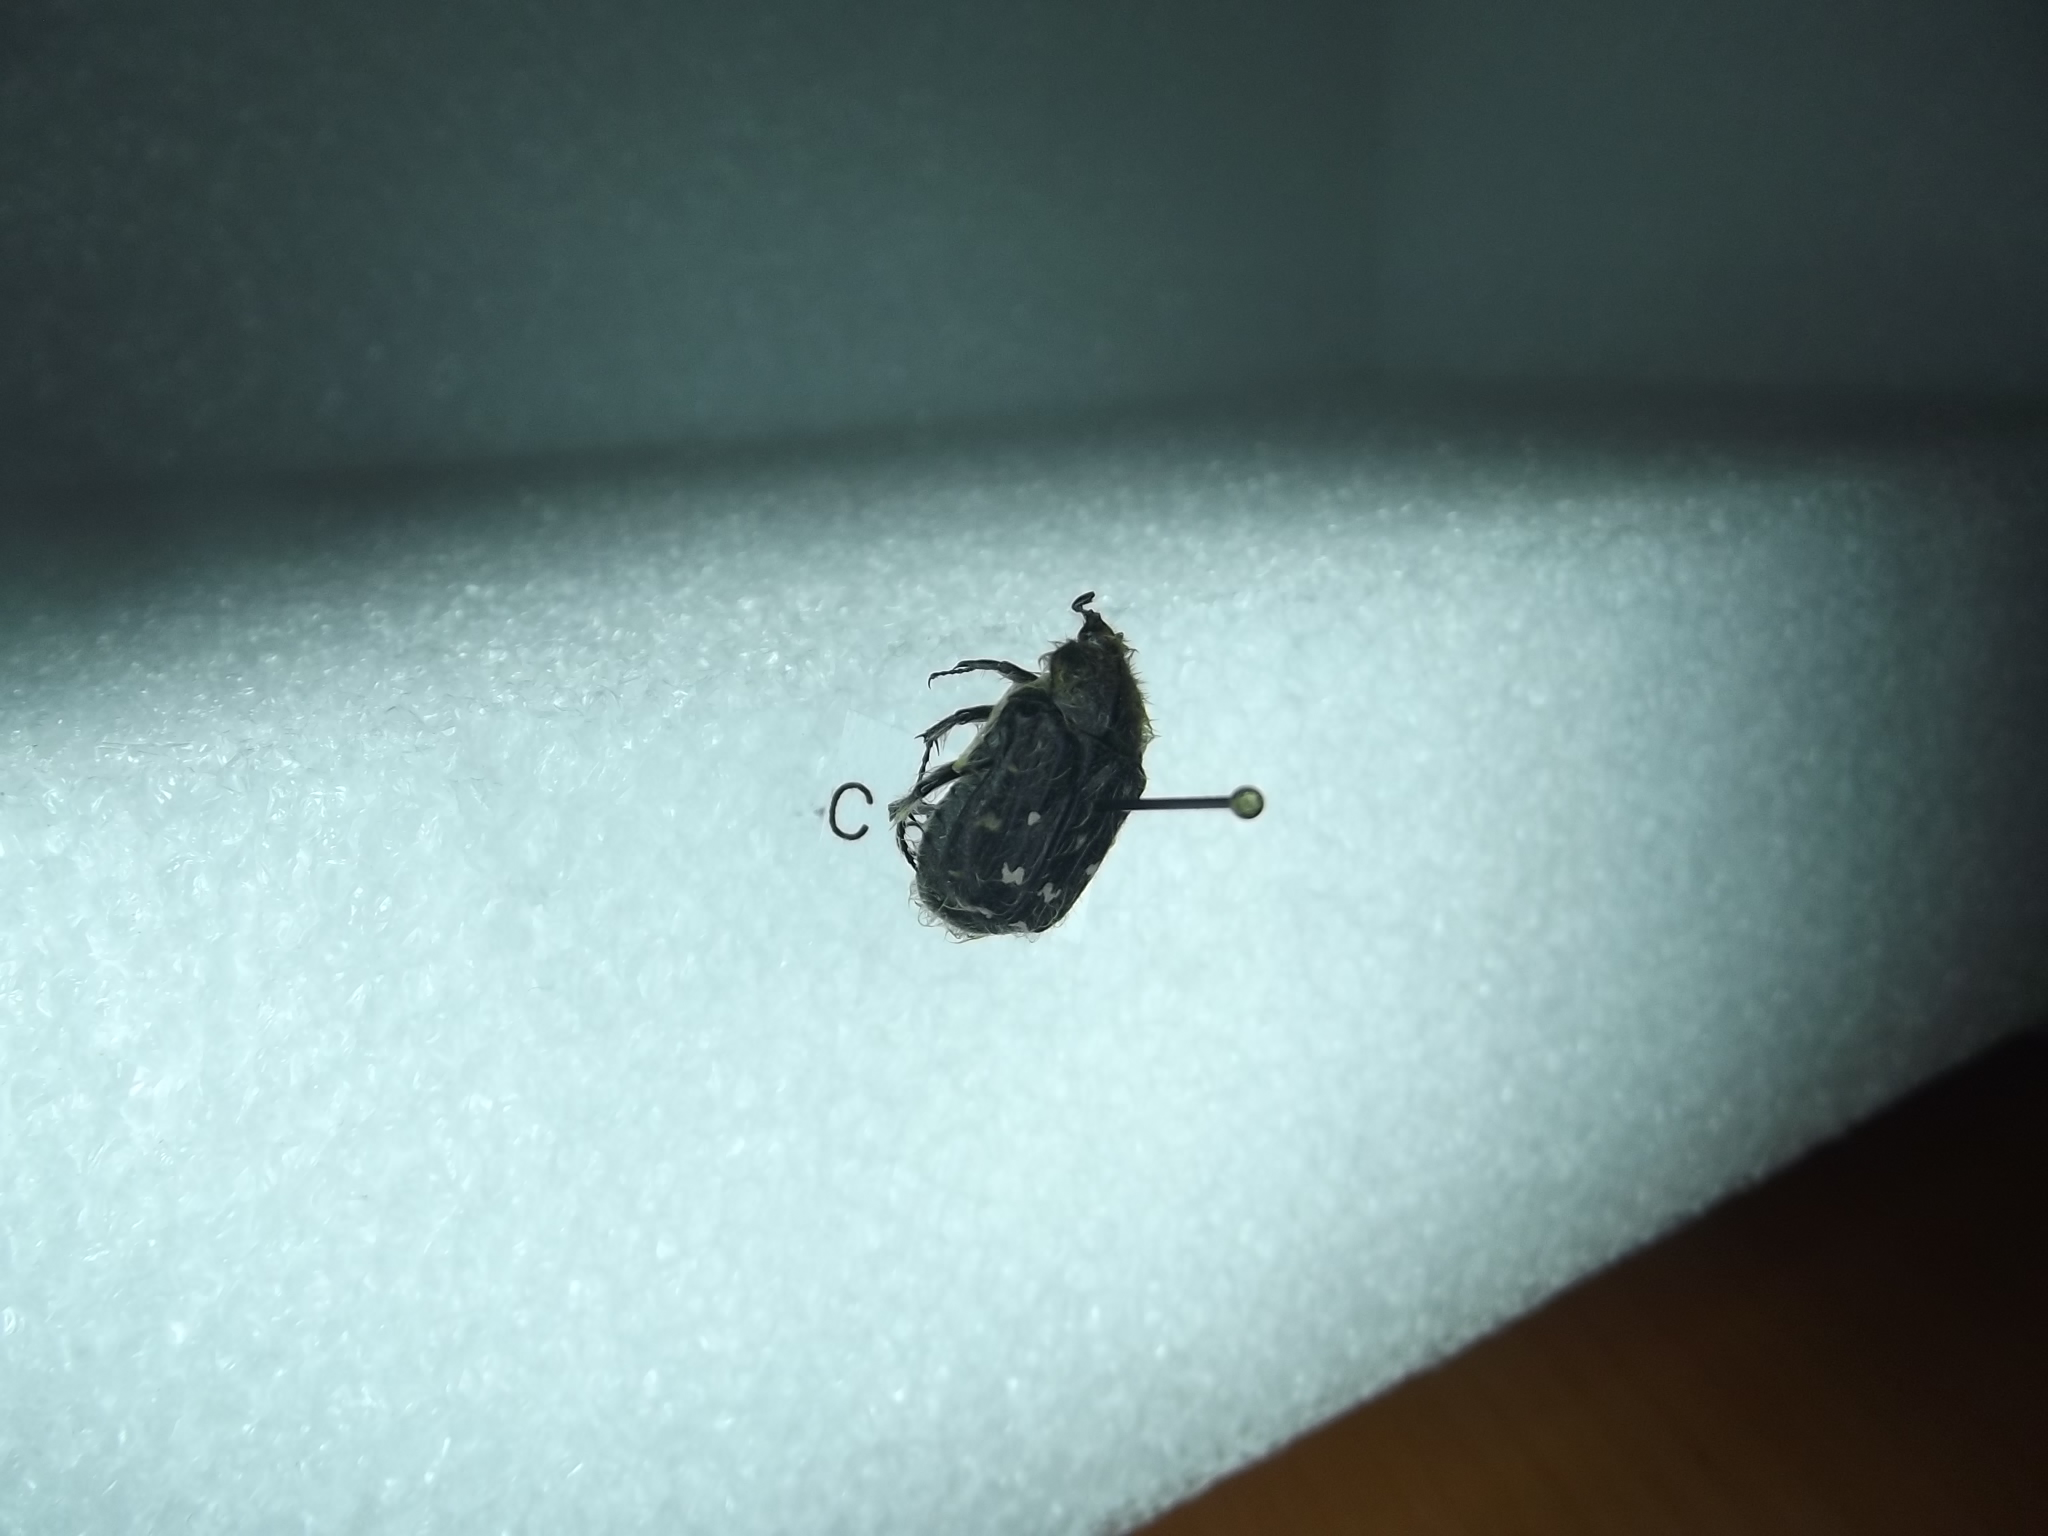Tropinota_senicula: (860, 591, 1168, 960)
